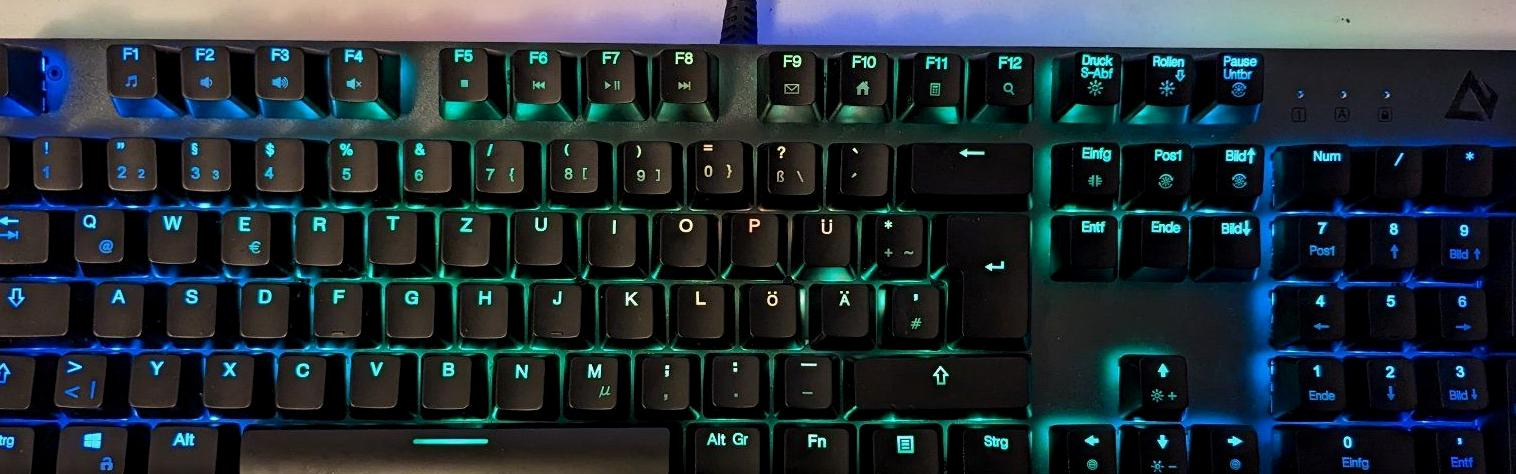0: (687, 135, 746, 195)
1: (30, 133, 85, 192)
2: (105, 134, 158, 193)
3: (178, 134, 232, 194)
4: (252, 135, 305, 193)
5: (326, 135, 380, 194)
6: (400, 136, 454, 194)
7: (474, 136, 526, 195)
8: (546, 135, 602, 195)
9: (618, 136, 675, 198)
a: (91, 279, 144, 337)
accent: (831, 139, 890, 198)
ae: (816, 281, 872, 340)
alt-left: (146, 420, 220, 474)
altgr-right: (687, 420, 766, 474)
b: (419, 349, 475, 410)
c: (275, 350, 328, 410)
caret: (1, 134, 28, 193)
comma: (639, 350, 693, 411)
d: (239, 279, 290, 338)
del: (906, 139, 1032, 199)
e: (219, 207, 273, 267)
enter: (937, 209, 1030, 344)
f: (312, 279, 363, 338)
g: (384, 279, 437, 339)
h: (456, 279, 511, 340)
hash: (884, 280, 940, 343)
i: (585, 208, 640, 267)
j: (530, 278, 583, 338)
k: (602, 279, 656, 340)
keyboard: (1, 40, 1516, 474)
l: (673, 279, 727, 340)
less: (51, 349, 108, 410)
m: (564, 349, 623, 413)
minus: (779, 351, 836, 411)
n: (494, 350, 548, 411)
o: (657, 208, 711, 268)
oe: (744, 279, 798, 340)
p: (727, 208, 780, 268)
plus: (869, 210, 925, 270)
point: (707, 350, 762, 408)
q: (70, 206, 127, 266)
r: (294, 207, 346, 266)
s: (164, 278, 217, 339)
shift-left: (1, 349, 37, 409)
shift-lock: (1, 277, 72, 338)
shift-right: (850, 353, 1030, 412)
space: (232, 422, 677, 474)
ss: (760, 137, 818, 198)
strg-left: (1, 421, 37, 474)
strg-right: (954, 423, 1032, 474)
t: (368, 207, 420, 265)
tab: (1, 205, 51, 264)
u: (512, 208, 566, 266)
ue: (799, 209, 853, 266)
v: (349, 349, 402, 408)
w: (145, 208, 199, 265)
x: (203, 350, 256, 409)
y: (127, 351, 181, 408)
z: (439, 207, 493, 267)
